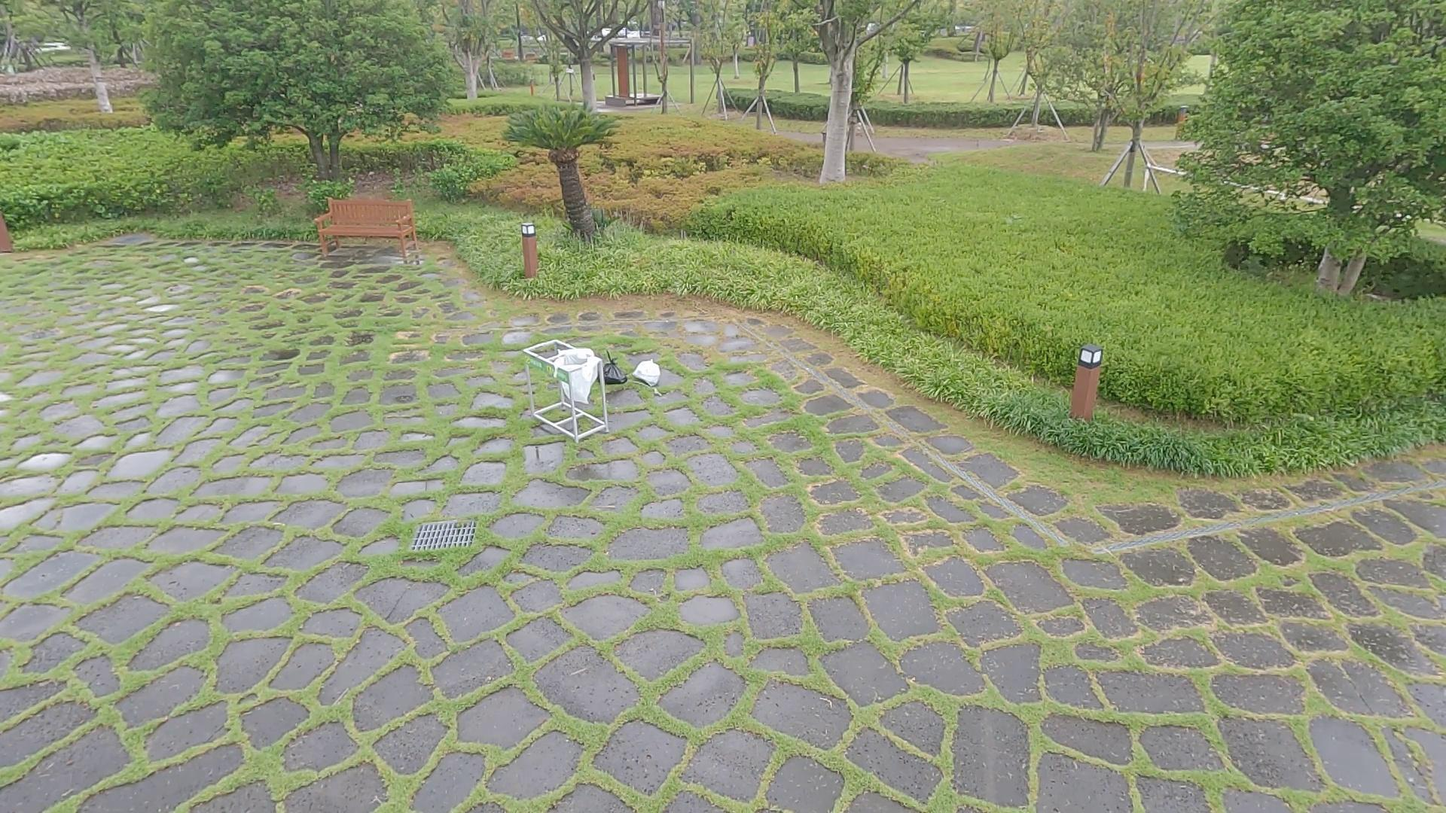trash: (595, 349, 627, 384), (632, 359, 662, 388)
